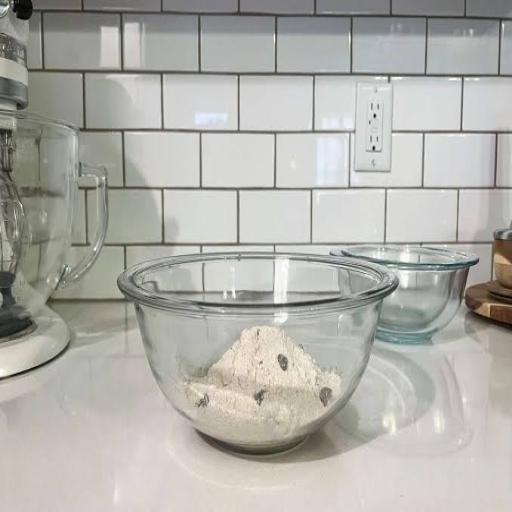Bowl: (118, 253, 394, 452), (331, 245, 478, 343)
